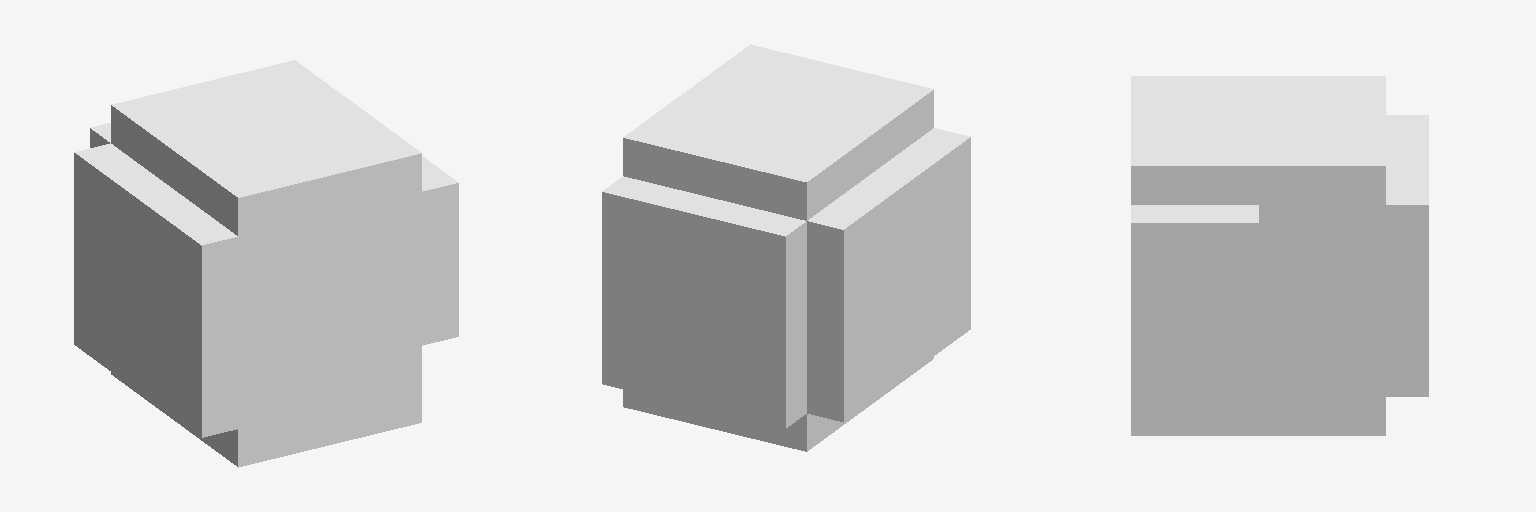
Rendered from Hero-9.obj.
3 views of the same model, side by side, from view 1: azimuth 30°, elevation 25°; view 2: azimuth 150°, elevation 25°; view 3: azimuth 270°, elevation 25° (orthographic).
Parts seen in each view (by area): view 1: object 1; view 2: object 1; view 3: object 1.
Part boxes in pixels (x1,y1,x2,y2): object 1: (74,60,458,467); object 1: (602,44,970,451); object 1: (1131,76,1428,435).
Size of the model in its own units: 0.7 by 0.7 by 0.7.